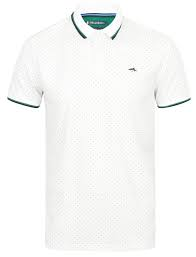C_polo shirt: (5, 10, 196, 244)
